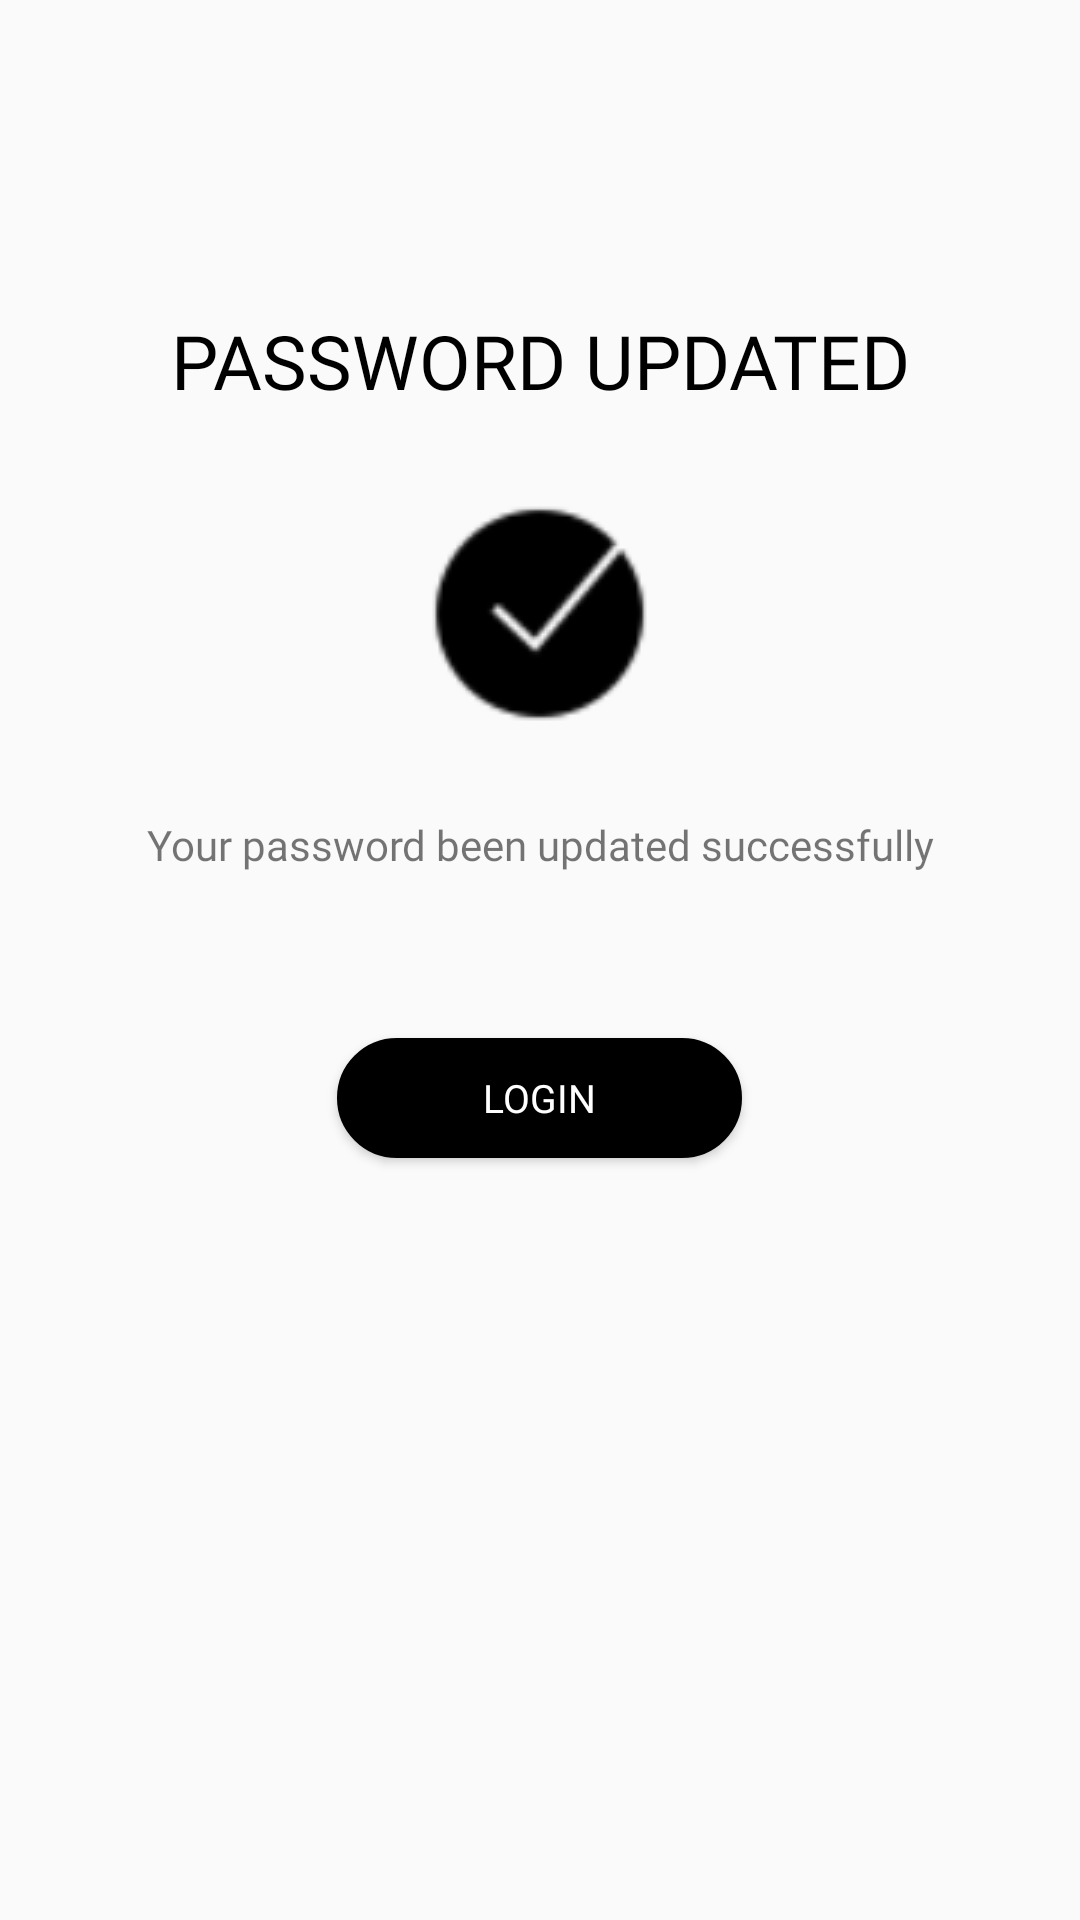

Where icons sit on this 1080 × 1920 app screen, as Rect(x1, y1, x2, y2):
checked: Rect(434, 508, 646, 720)
